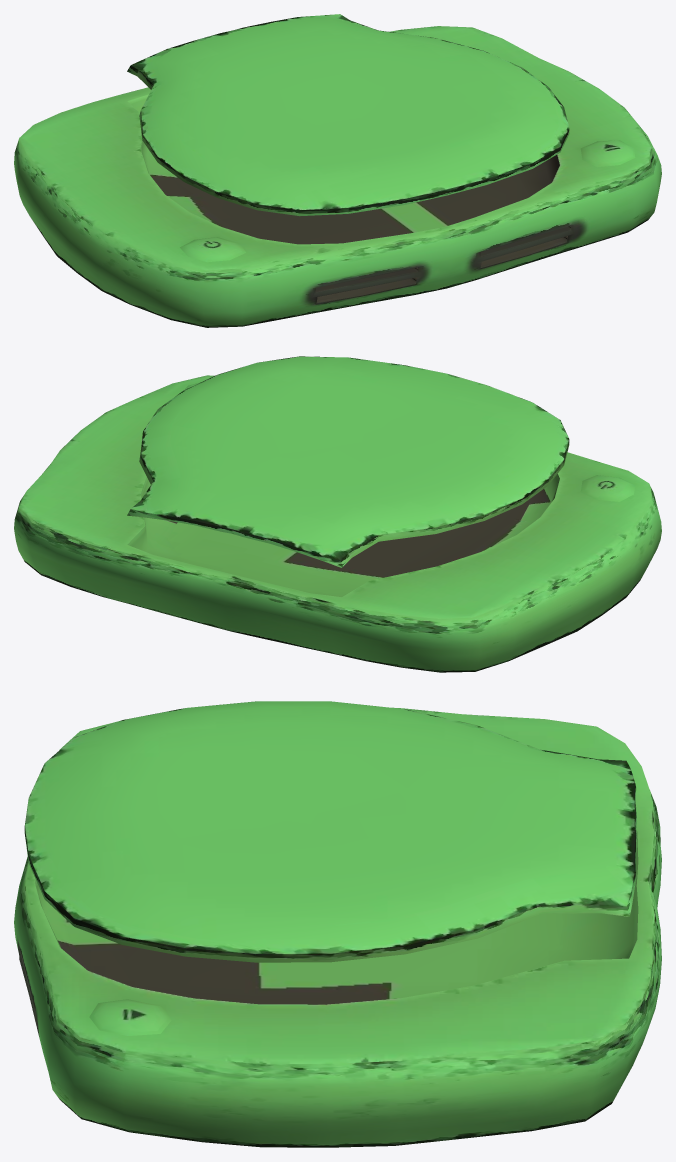
Rendered from gelatostation.glb.
The picture shows the model from 3 angles, top to bottom: view 1: azimuth 30°, elevation 25°; view 2: azimuth 150°, elevation 25°; view 3: azimuth 270°, elevation 25°; orthographic projection. The views are drawn at different scales.
Parts seen in each view (by area): view 1: GelatoStation_Body, GelatoStation_Lid; view 2: GelatoStation_Body, GelatoStation_Lid; view 3: GelatoStation_Lid, GelatoStation_Body.
Part boxes in pixels (x1,y1,x2,y2): GelatoStation_Body: [14, 26, 661, 327]; GelatoStation_Lid: [127, 14, 569, 216]; GelatoStation_Body: [14, 375, 661, 672]; GelatoStation_Lid: [127, 356, 569, 567]; GelatoStation_Lid: [24, 701, 636, 962]; GelatoStation_Body: [14, 707, 661, 1147].
Size of the model in its own units: 0.2056 by 0.0395 by 0.1504.
Materials: 1 (1 with a texture image).
